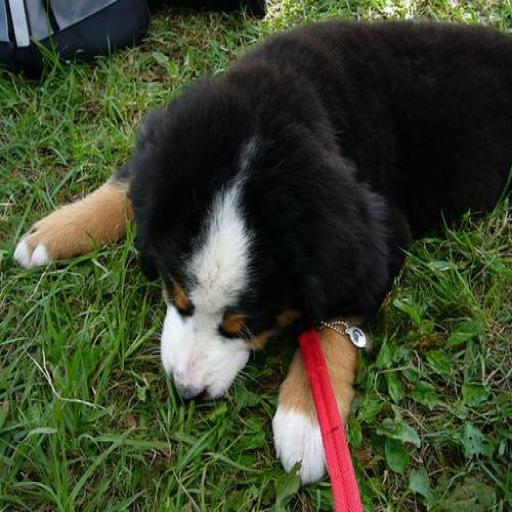dog_face: (135, 122, 371, 427)
